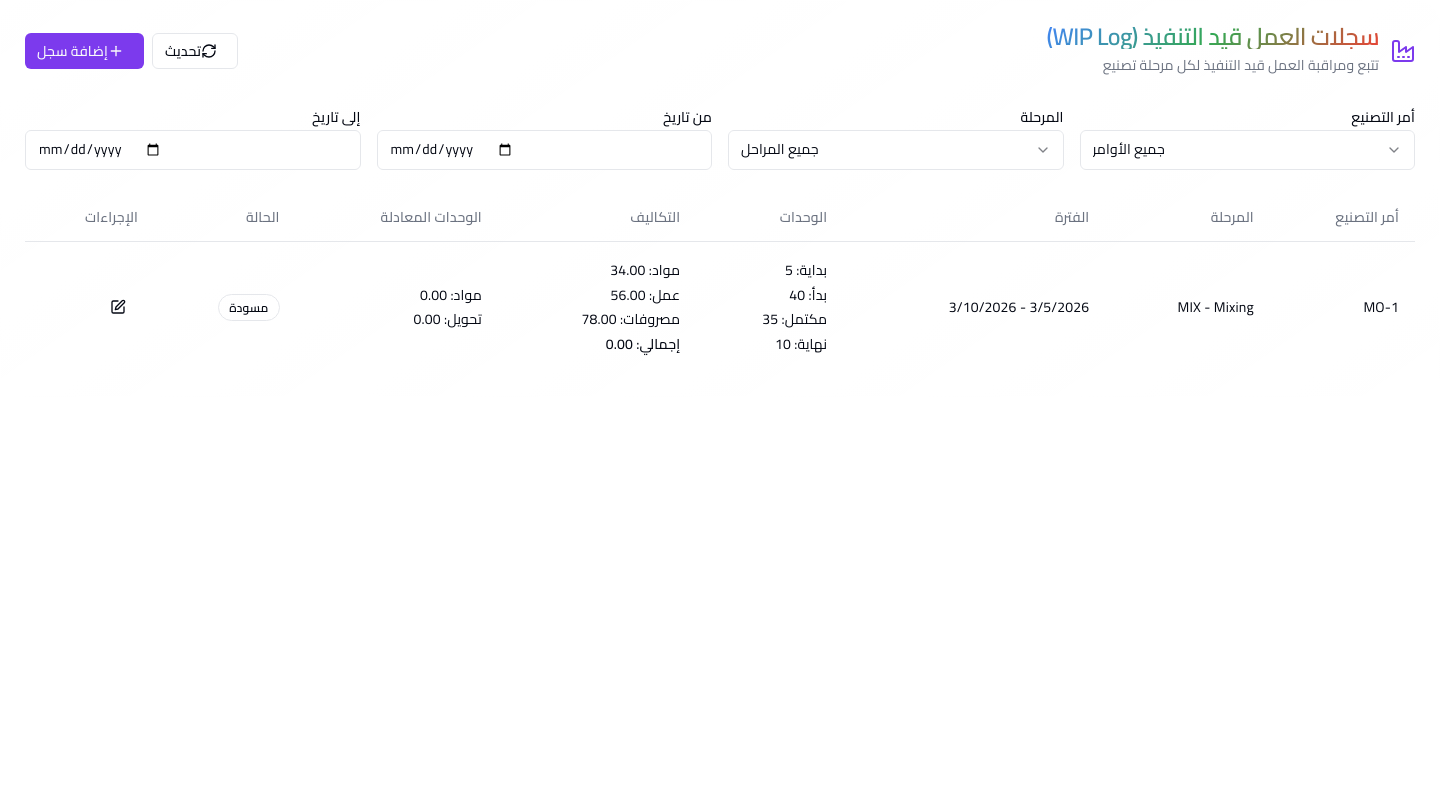
WipLogTableRow — rendered inside StageWipLogList › clicking edit actually populates WipLogFormDialog with the mapped log values, not just opens it
This screenshot has width=1440, height=810.
Click the button named "تعديل سجل WIP wip-edit" at (118, 307), box left=98, top=289, right=138, bottom=325
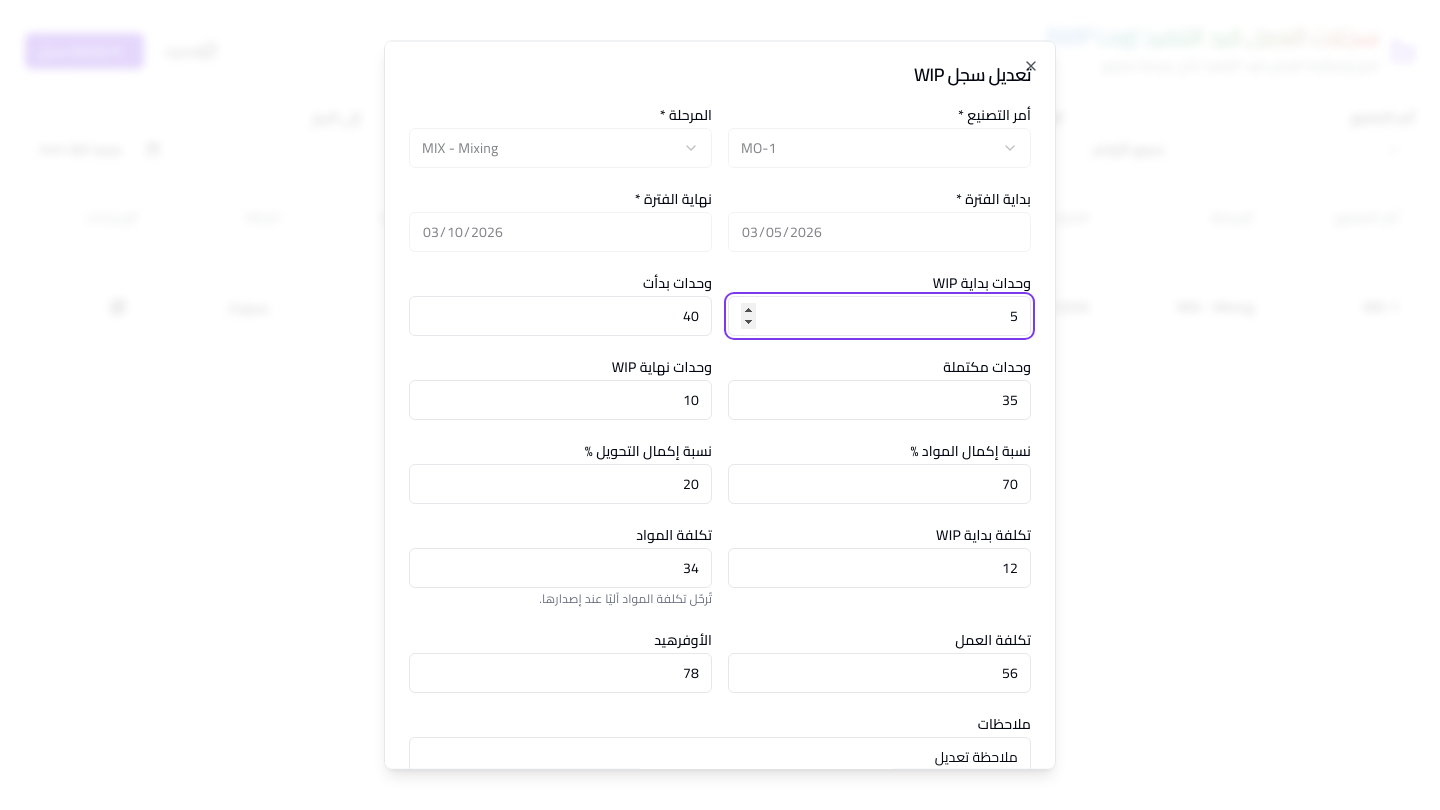
Expected: the dialog shows "تعديل سجل WIP", left=914, top=58, right=1031, bottom=90
Expected: the date field labelled "بداية الفترة *" holds "2026-03-05", left=728, top=212, right=1031, bottom=252
Expected: the date field labelled "نهاية الفترة *" holds "2026-03-10", left=409, top=212, right=712, bottom=252
